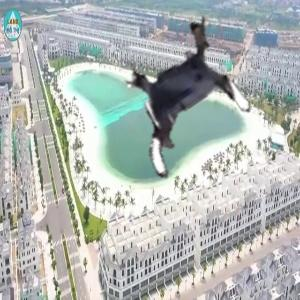drone: (110, 23, 258, 171)
